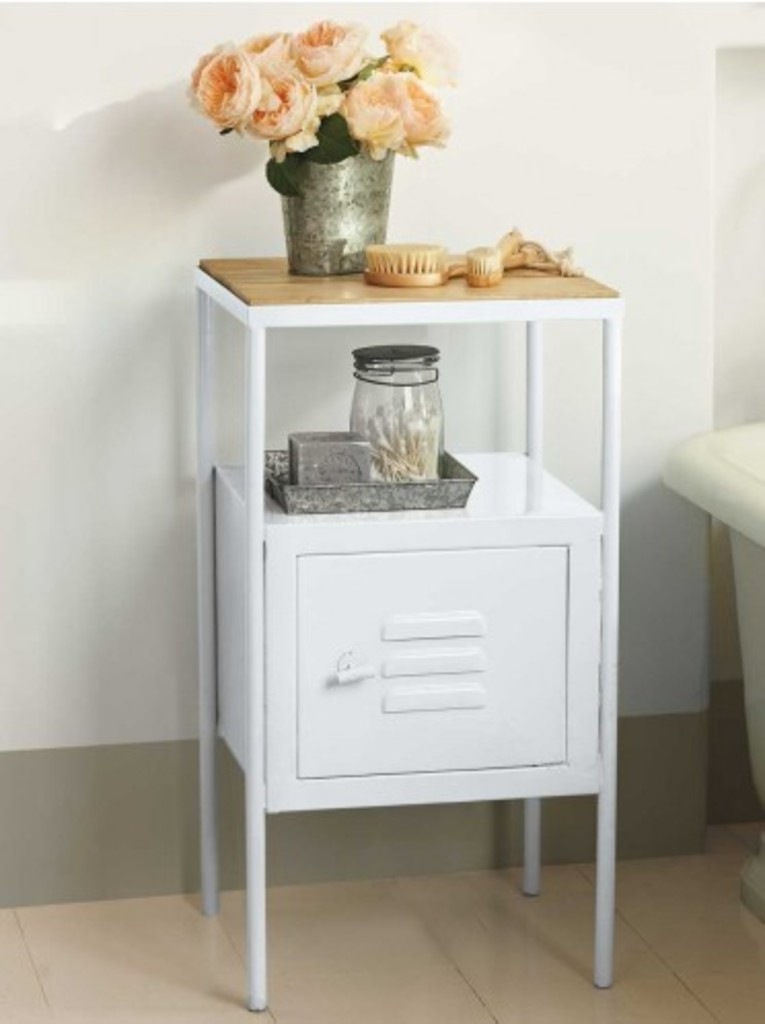cabinet door: (301, 575, 564, 764)
handle: (322, 650, 372, 693)
